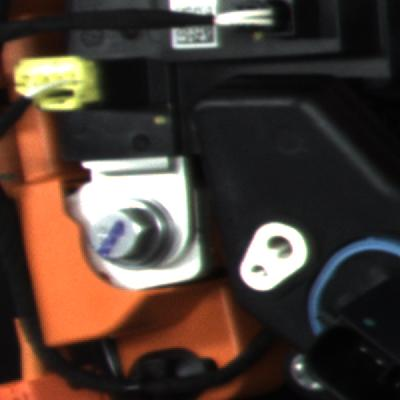nut_b: (89, 190, 186, 280)
